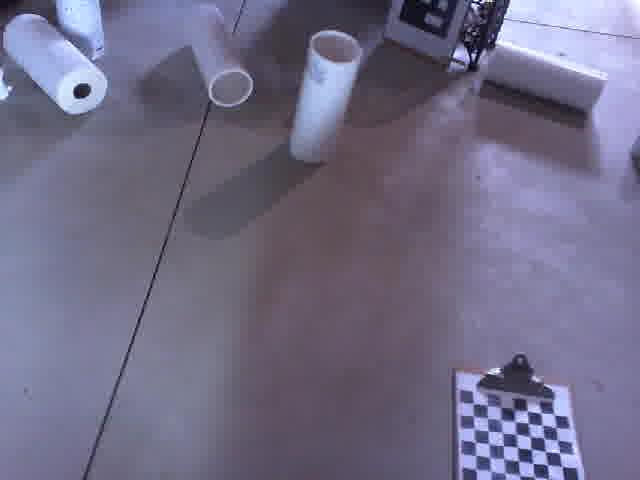coral: (285, 25, 370, 166), (481, 29, 611, 116), (178, 0, 255, 110)
